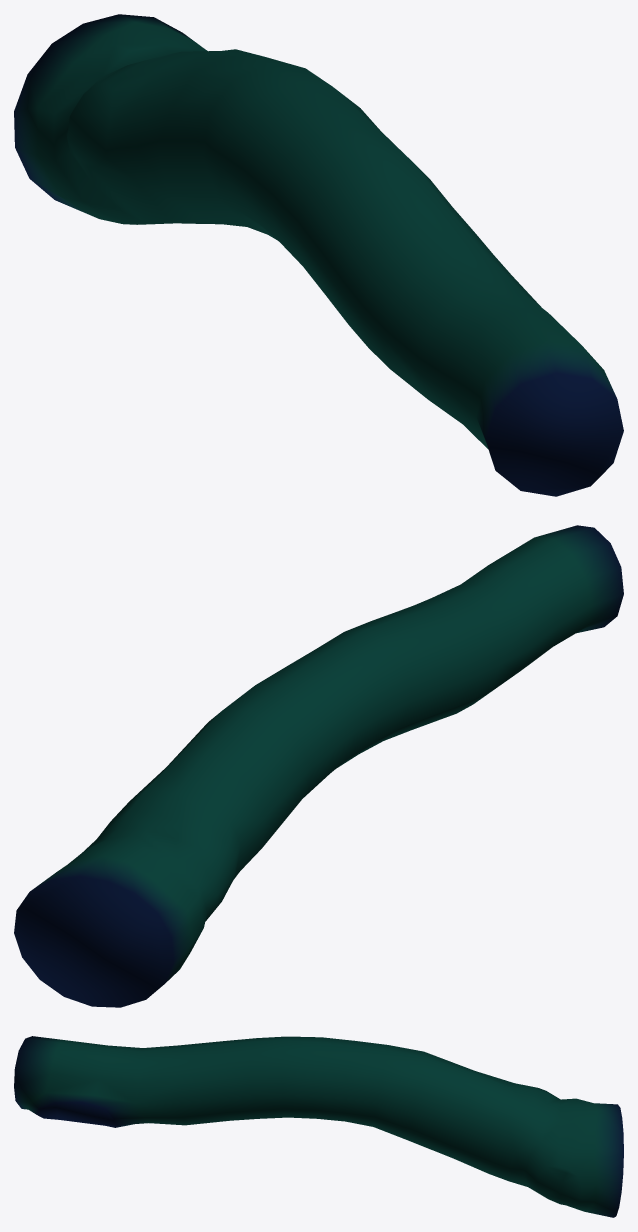
The model's file is Aorta_out.fbx.
The picture shows the model from 3 angles, top to bottom: view 1: azimuth 30°, elevation 25°; view 2: azimuth 150°, elevation 25°; view 3: azimuth 270°, elevation 25°; orthographic projection. The views are drawn at different scales.
Visible parts, largest first — view 1: Aorta_out; view 2: Aorta_out; view 3: Aorta_out.
Part boxes in pixels (box(x1,y1,x2,y2)): Aorta_out: box(14, 14, 623, 496); Aorta_out: box(14, 525, 623, 1007); Aorta_out: box(14, 1036, 623, 1217).
Bounding box in the file's own units: 29.34 × 30.41 × 108.
